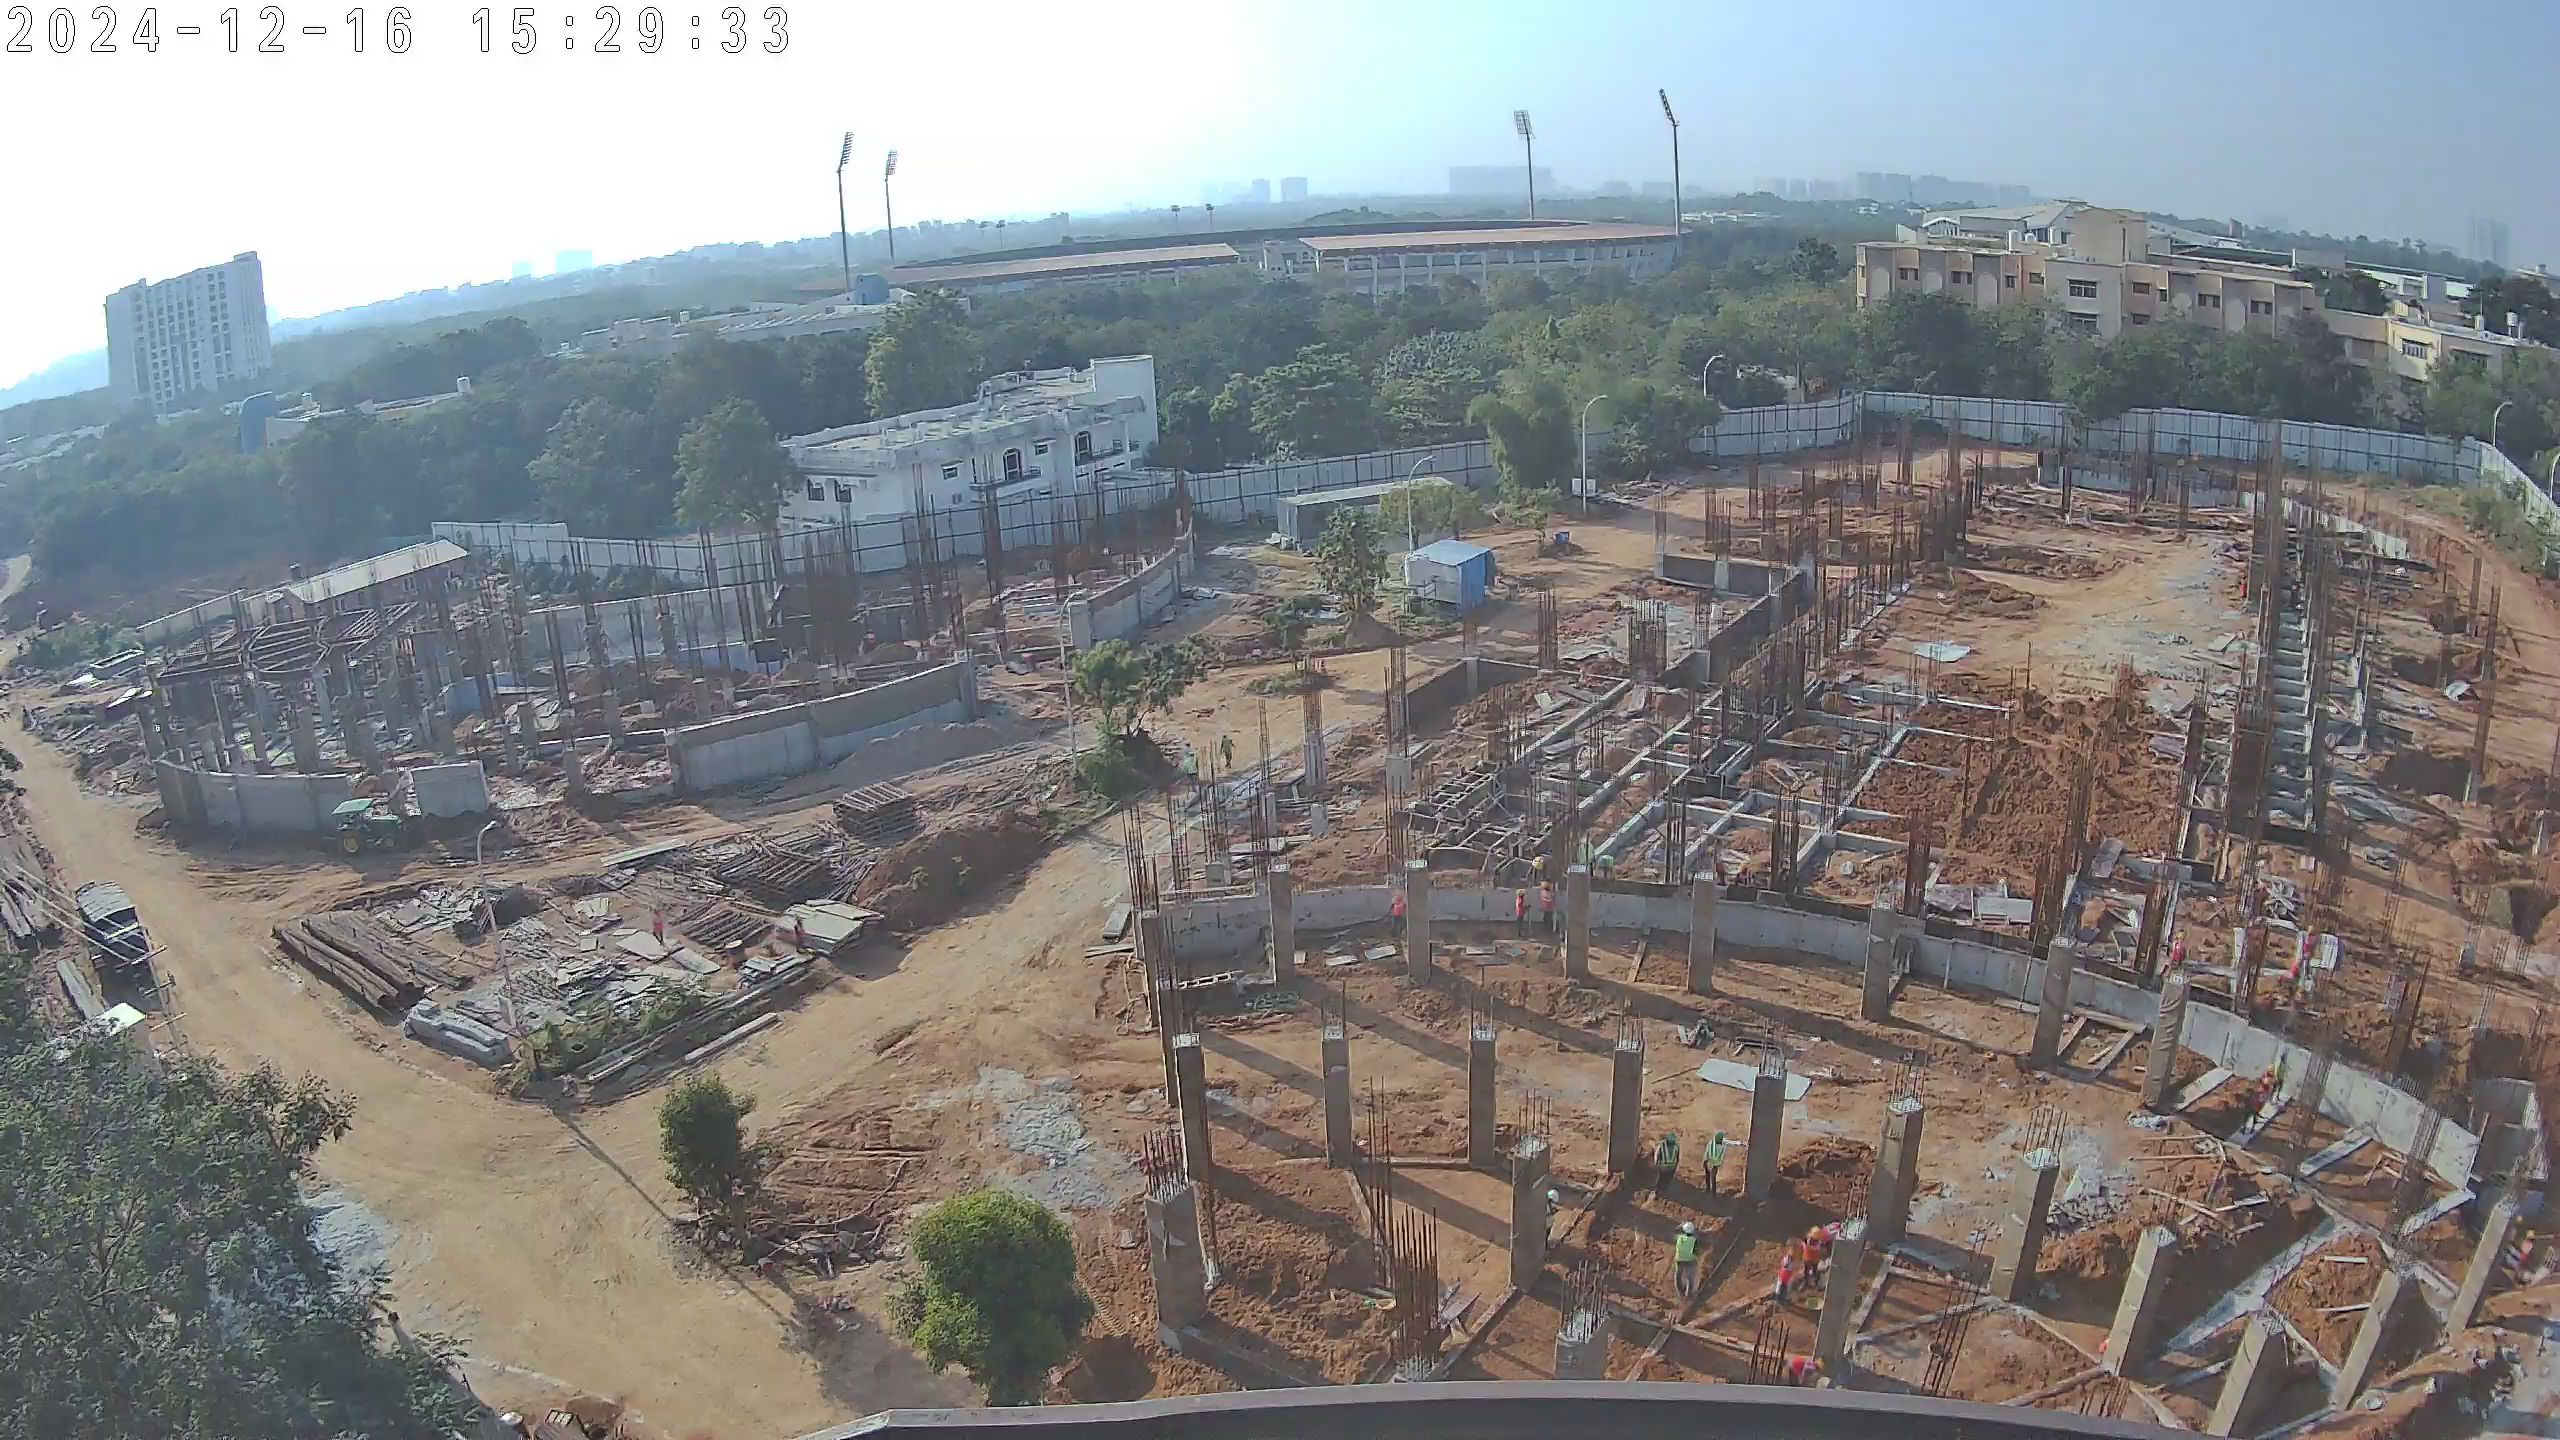bulldozer: (313, 792, 441, 864)
truck: (68, 877, 160, 999)
worker: (1639, 1127, 1687, 1204), (1668, 1220, 1697, 1302), (1695, 1127, 1729, 1191), (2245, 1066, 2274, 1134), (2509, 1222, 2537, 1290), (1802, 1220, 1827, 1291), (1384, 881, 1411, 941), (1571, 833, 1601, 883), (1509, 886, 1534, 944), (2168, 925, 2192, 979), (1539, 878, 1560, 939), (2276, 1045, 2295, 1111), (2297, 920, 2315, 981), (1183, 749, 1203, 802), (1775, 1245, 1791, 1310), (2282, 949, 2306, 992), (2261, 1056, 2278, 1116), (1214, 730, 1236, 772), (790, 911, 809, 959), (649, 906, 669, 951), (1179, 739, 1196, 773)
